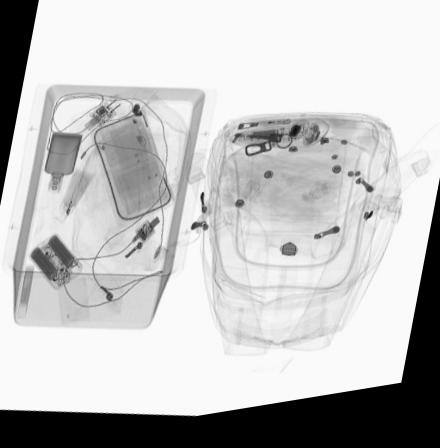Lighter: (255, 127, 291, 136)
